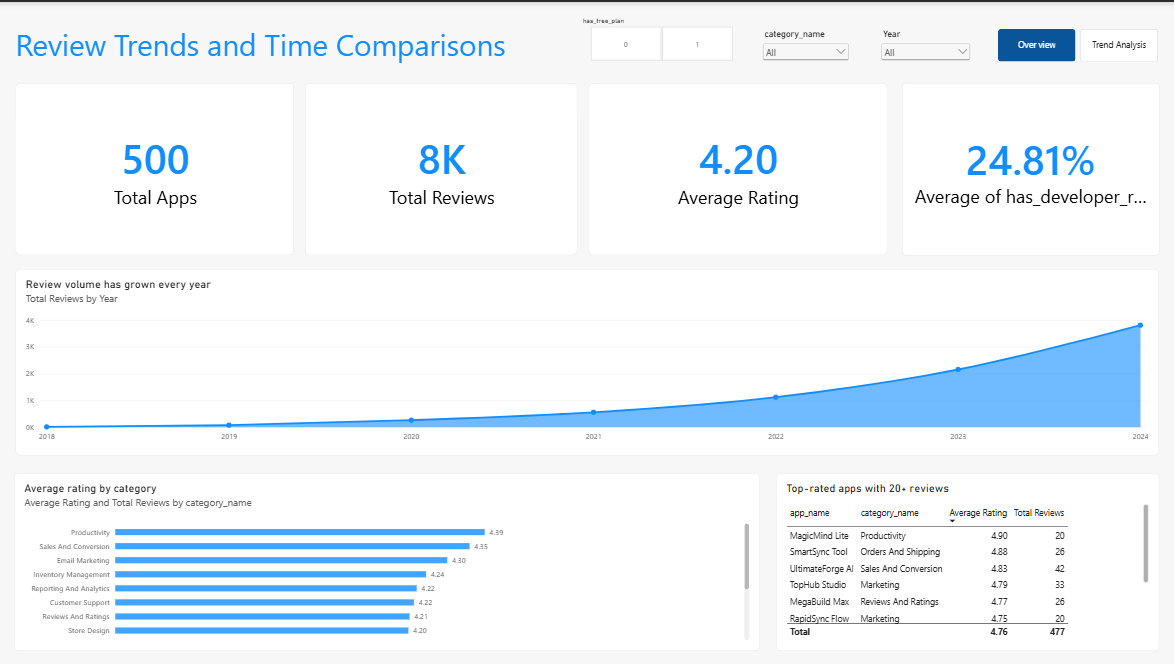

The dashboard page shown, as its layout file describes it:
{"tool":"powerbi","page":{"name":"Over view","canvas":[1920,1080],"ordinal":0},"visuals":[{"type":"cardVisual","fields":{"Data":["apps.Average Rating"]},"box":[960,131.7,486.7,280],"z":0},{"type":"textbox","box":[27.5,37.5,912.5,90],"z":1000},{"type":"cardVisual","fields":{"Data":["apps.Total Reviews"]},"box":[498.3,131.7,443.3,280],"z":2000},{"type":"cardVisual","fields":{"Data":["apps.Total Apps"]},"box":[26,131,453.5,280.6],"z":3000},{"type":"card","fields":{"Values":["Avg(reviews.has_developer_reply)"]},"box":[1468.4,130.9,419.5,280.6],"z":4000},{"type":"lineChart","title":"Review volume has grown every year","fields":{"Category":["dim_date.Year"],"Y":["apps.Total Reviews"]},"box":[26.7,433.3,1860,303.3],"z":5000},{"type":"clusteredBarChart","title":"Average rating by category ","fields":{"Category":["apps.category_name"],"Y":["apps.Average Rating"]},"box":[25.5,765.4,1213.2,289.1],"z":6000},{"type":"tableEx","title":"Top-rated apps with 20+ reviews","fields":{"Values":["apps.app_name","apps.category_name","apps.Average Rating","apps.Total Reviews"]},"box":[1264.3,765.4,623.6,289.1],"z":7000},{"type":"slicer","fields":{"Values":["dim_date.Year"]},"box":[1430,45,155,83.3],"z":8000},{"type":"slicer","fields":{"Values":["apps.category_name"]},"box":[1237.5,45,150,67.5],"z":9000},{"type":"slicer","fields":{"Values":["apps.has_free_plan"]},"box":[942.5,25,270,72.5],"z":10000},{"type":"pageNavigator","box":[1625,45,260,53.3],"z":11000}]}

Visuals, with their boxes on the page's 1920x1080 design canvas (x1, y1, x2, y2). These are canvas units, not pixel positions in the 1174x664 screenshot, which may show the page scaled, cropped or inside an application window:
cardVisual - apps.Average Rating: pyautogui.locateOnScreen(960, 132, 1447, 412)
textbox: pyautogui.locateOnScreen(28, 38, 940, 128)
cardVisual - apps.Total Reviews: pyautogui.locateOnScreen(498, 132, 942, 412)
cardVisual - apps.Total Apps: pyautogui.locateOnScreen(26, 131, 480, 412)
card - Avg(reviews.has_developer_reply): pyautogui.locateOnScreen(1468, 131, 1888, 412)
"Review volume has grown every year" lineChart: pyautogui.locateOnScreen(27, 433, 1887, 737)
"Average rating by category " clusteredBarChart: pyautogui.locateOnScreen(26, 765, 1239, 1054)
"Top-rated apps with 20+ reviews" tableEx: pyautogui.locateOnScreen(1264, 765, 1888, 1054)
slicer - dim_date.Year: pyautogui.locateOnScreen(1430, 45, 1585, 128)
slicer - apps.category_name: pyautogui.locateOnScreen(1238, 45, 1388, 112)
slicer - apps.has_free_plan: pyautogui.locateOnScreen(942, 25, 1212, 98)
pageNavigator: pyautogui.locateOnScreen(1625, 45, 1885, 98)
